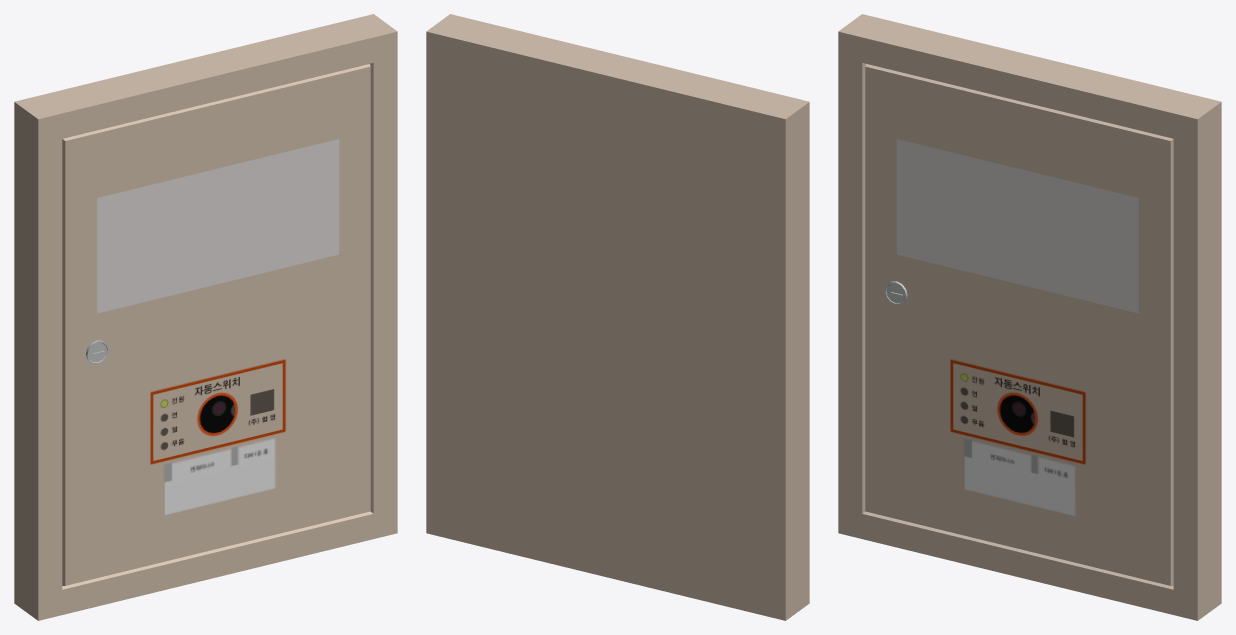
The model's file is LC_3046_Firealarm_Operationbox_LOD2.FBX.
3 views of the same model, side by side, from view 1: azimuth 30°, elevation 25°; view 2: azimuth 150°, elevation 25°; view 3: azimuth 330°, elevation 25° (orthographic).
Visible parts, largest first — view 1: LC_3046_Firealarm_Operationbox_LOD2; view 2: LC_3046_Firealarm_Operationbox_LOD2; view 3: LC_3046_Firealarm_Operationbox_LOD2.
Boxes of the visible parts, <box> form: LC_3046_Firealarm_Operationbox_LOD2: <box>14,14,397,620</box>; LC_3046_Firealarm_Operationbox_LOD2: <box>426,14,809,620</box>; LC_3046_Firealarm_Operationbox_LOD2: <box>838,14,1221,620</box>.
Bounding box in the file's own units: 30 × 40 × 3.68.
1 material, 1 textured.
